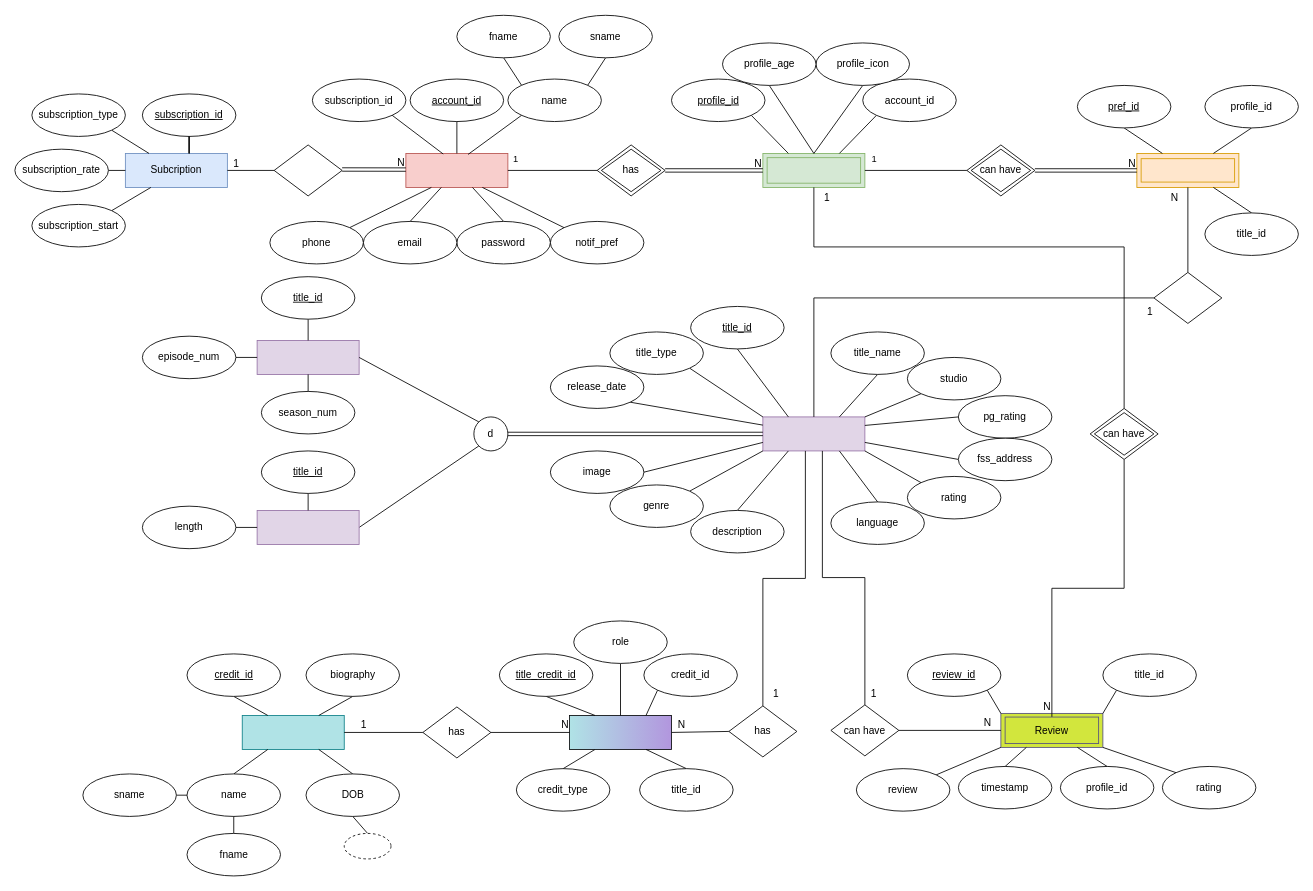
Some shapes in this 1313 by 891 pixel diagram are drawn without their labels. The box of each missing label's shape, as (x1, y1, x2, y2) in pixels:
Account: (405, 153, 508, 187)
age: (343, 833, 391, 859)
Credits: (241, 715, 344, 749)
is linked to: (273, 144, 342, 196)
Movie: (256, 510, 359, 544)
Preferences: (1140, 158, 1235, 182)
Profile: (766, 157, 861, 183)
refers to: (1153, 272, 1222, 323)
Series: (256, 340, 359, 374)
Title: (762, 416, 865, 451)
Title_Credits: (569, 715, 672, 749)
